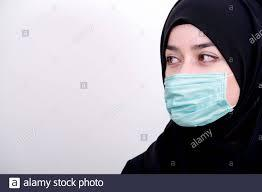Wearing Mask: (152, 1, 262, 134)
